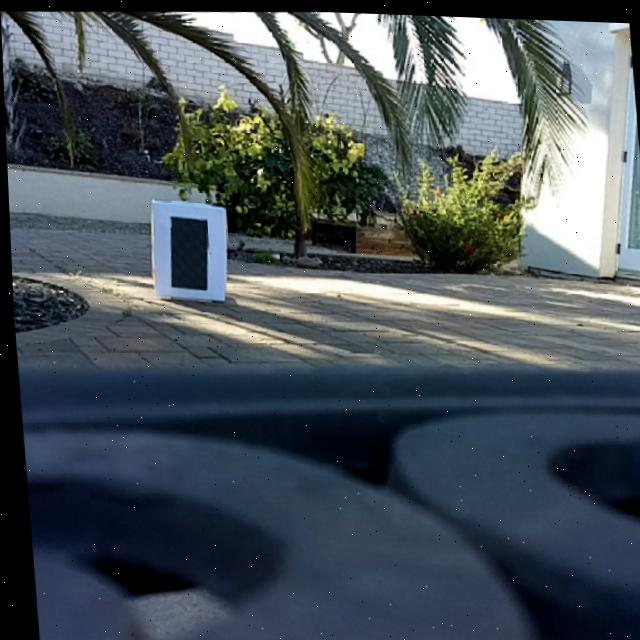led: (164, 213, 210, 290)
